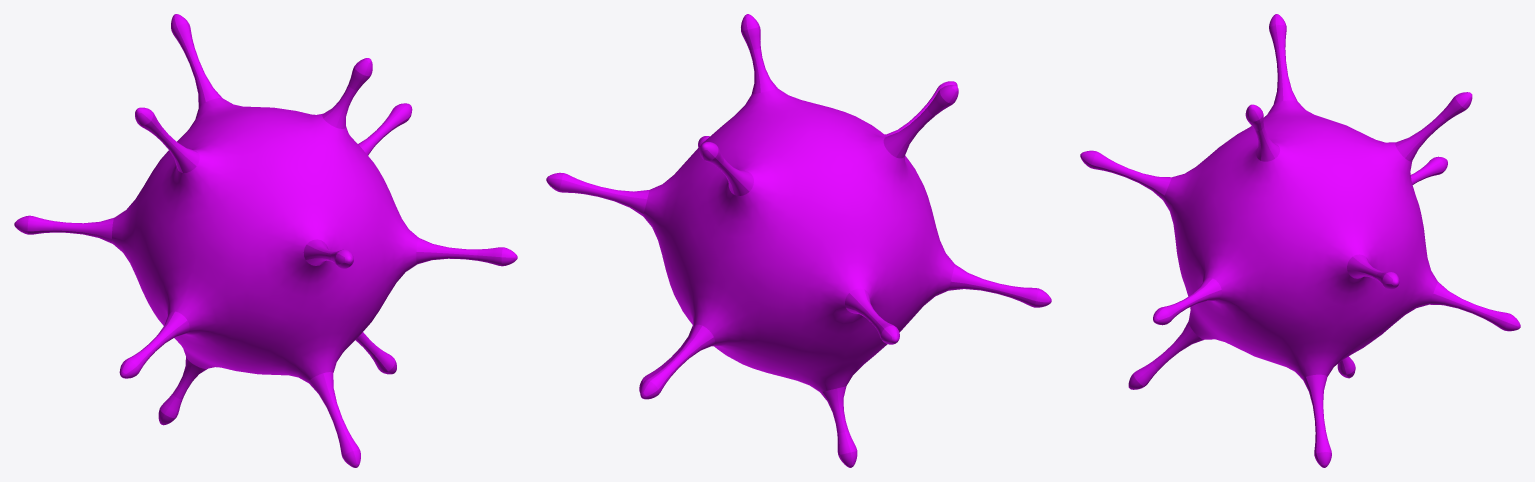
Rendered from enemy.obj.
3 views of the same model, side by side, from view 1: azimuth 30°, elevation 25°; view 2: azimuth 150°, elevation 25°; view 3: azimuth 270°, elevation 25° (orthographic). The views are drawn at different scales.
Parts seen in each view (by area): view 1: ICO球; view 2: ICO球; view 3: ICO球.
Part boxes in pixels (x1,y1,x2,y2): ICO球: [14, 14, 517, 467]; ICO球: [546, 14, 1051, 467]; ICO球: [1080, 14, 1520, 467].
Size of the model in its own units: 2.68 by 2.4 by 2.8.
Materials: 1 (1 with a texture image).
